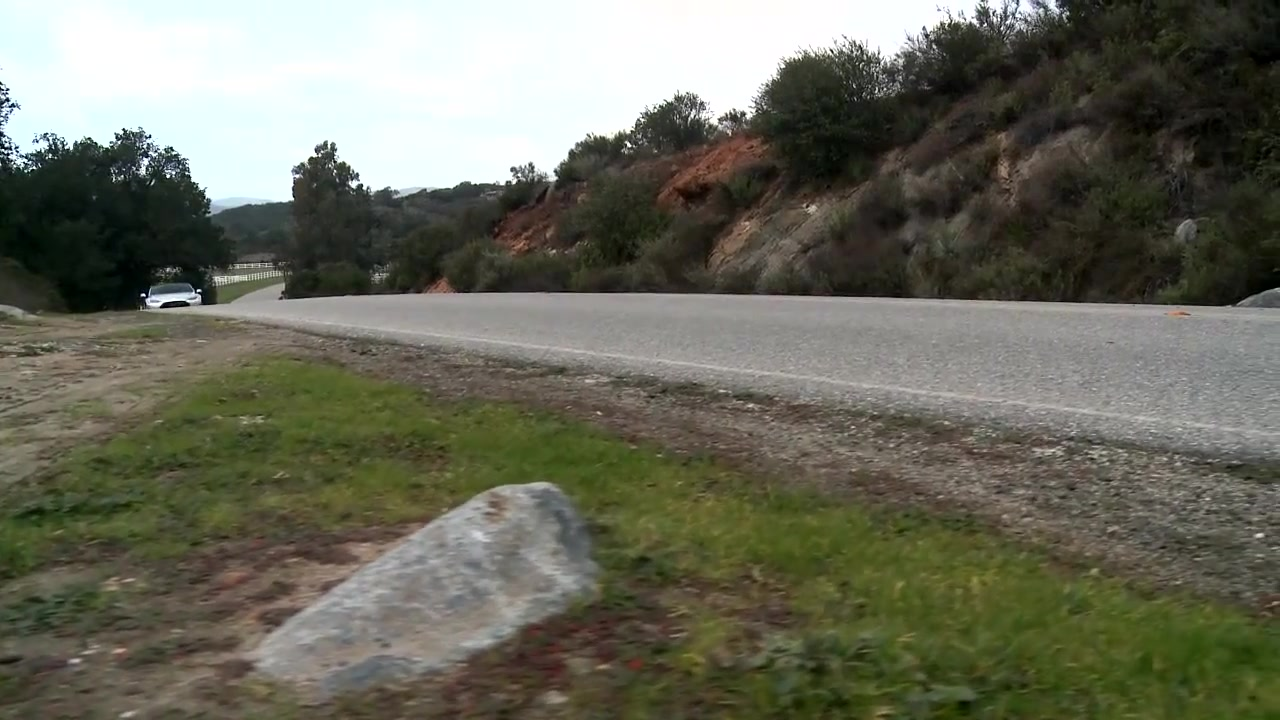car: (138, 277, 207, 315)
